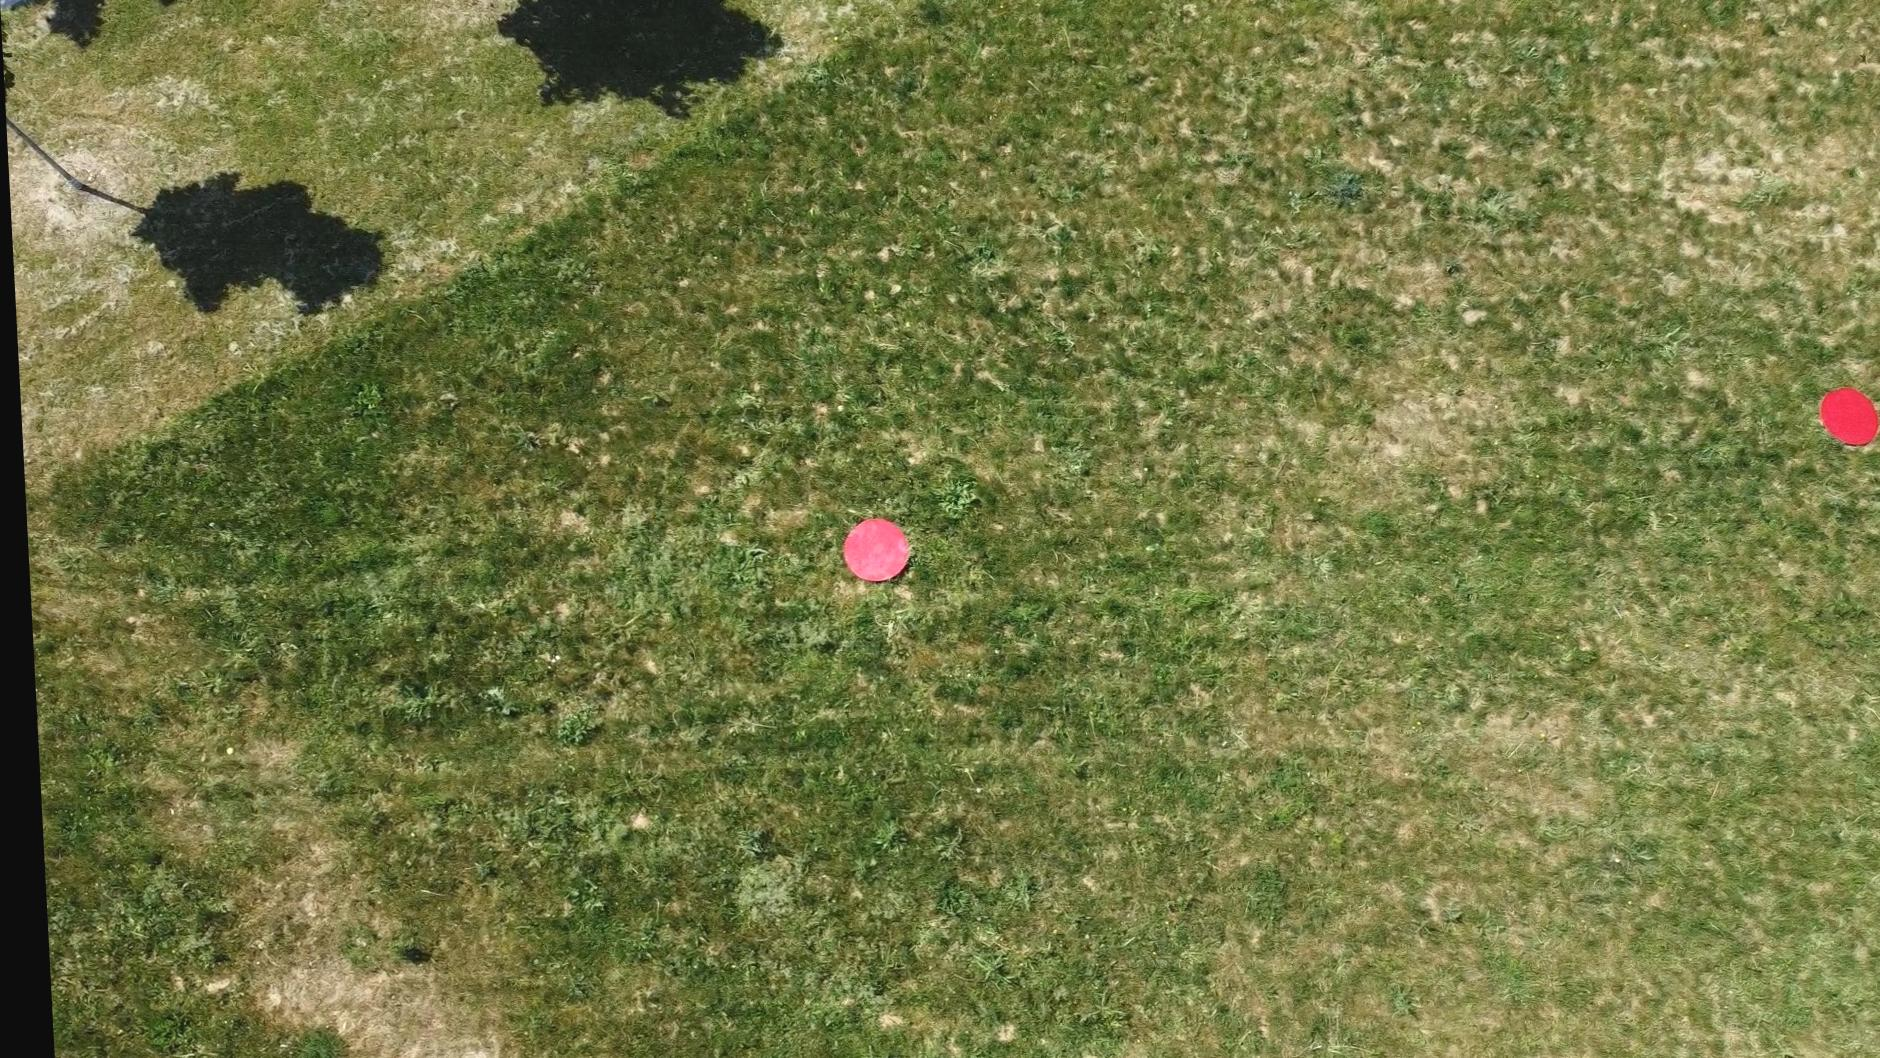Red: (830, 517, 909, 584), (1810, 385, 1877, 448)
